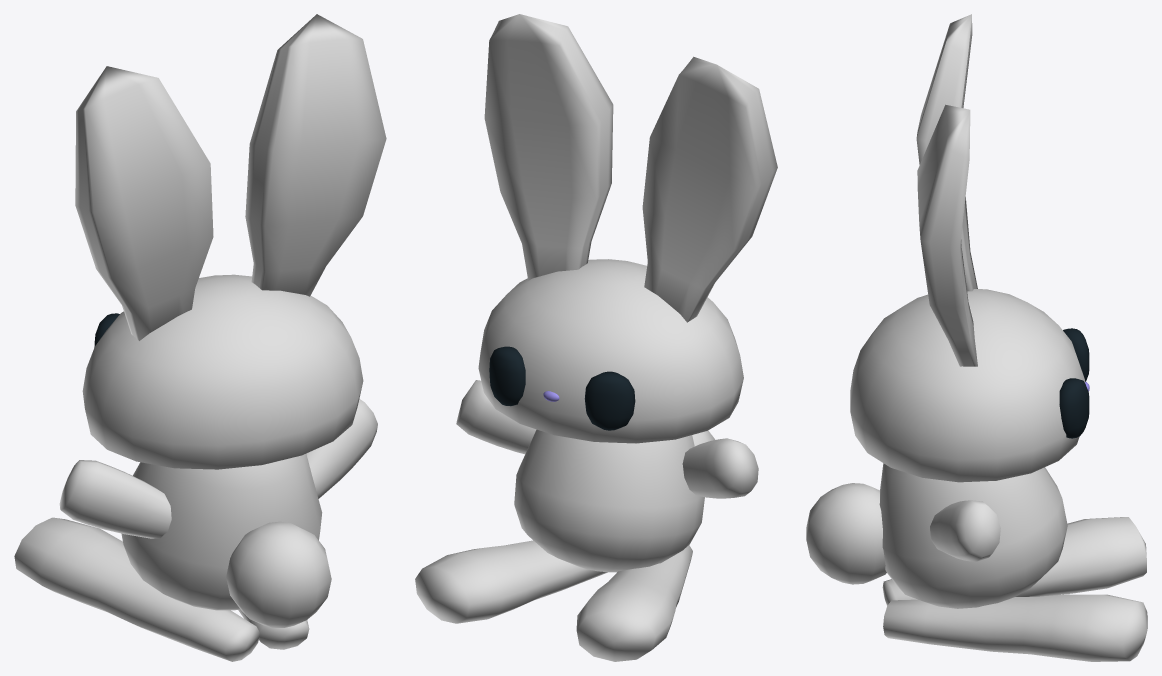
The model's file is Remi_1.fbx.
3 views of the same model, side by side, from view 1: azimuth 30°, elevation 25°; view 2: azimuth 150°, elevation 25°; view 3: azimuth 270°, elevation 25° (orthographic). The views are drawn at different scales.
Parts seen in each view (by area): view 1: Sphere, Cube.003, Cube.004, Sphere.001, Sphere.008, Sphere.007, Sphere.002; view 2: Sphere, Cube.003, Cube.004, Sphere.001, Sphere.008, Sphere.007, Sphere.025; view 3: Sphere, Sphere.008, Sphere.001, Cube.003, Sphere.002, Cube.004, Sphere.007, Sphere.025.
Part boxes in pixels (<box>): Sphere: <box>82,274,363,469</box>; Cube.003: <box>245,14,386,296</box>; Cube.004: <box>75,66,213,340</box>; Sphere.001: <box>121,454,322,610</box>; Sphere.008: <box>14,517,309,661</box>; Sphere.007: <box>59,399,377,538</box>; Sphere.002: <box>226,521,331,627</box>; Sphere: <box>478,259,743,443</box>; Cube.003: <box>484,14,613,280</box>; Cube.004: <box>642,56,777,322</box>; Sphere.001: <box>514,429,704,572</box>; Sphere.008: <box>415,540,692,661</box>; Sphere.007: <box>456,380,758,498</box>; Sphere.025: <box>489,346,635,430</box>; Sphere: <box>850,289,1085,482</box>; Sphere.008: <box>882,517,1147,661</box>; Sphere.001: <box>879,463,1067,608</box>; Cube.003: <box>917,104,977,366</box>; Sphere.002: <box>806,483,886,584</box>; Cube.004: <box>916,14,977,291</box>; Sphere.007: <box>930,500,1000,561</box>; Sphere.025: <box>1059,328,1089,438</box>.
Size of the model in its own units: 53.84 by 96.5 by 53.31.
